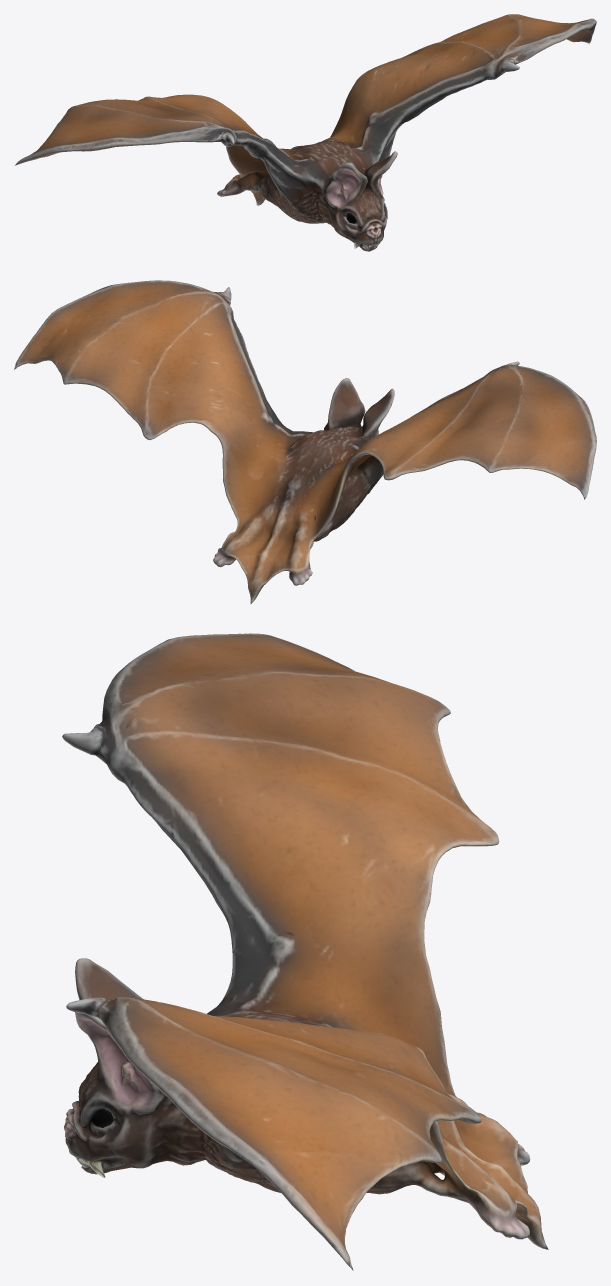
The model's file is Bat.glb.
3 views of the same model, one above another, from view 1: azimuth 30°, elevation 25°; view 2: azimuth 150°, elevation 25°; view 3: azimuth 270°, elevation 25° (orthographic). The views are drawn at different scales.
Parts seen in each view (by area): view 1: ZbrushBatSimplifiedRemix.002; view 2: ZbrushBatSimplifiedRemix.002; view 3: ZbrushBatSimplifiedRemix.002.
Boxes of the visible parts, bbox=[...] form: ZbrushBatSimplifiedRemix.002: bbox=[15, 14, 596, 251]; ZbrushBatSimplifiedRemix.002: bbox=[14, 280, 596, 603]; ZbrushBatSimplifiedRemix.002: bbox=[62, 633, 548, 1270].
Bounding box in the file's own units: 0.9096 × 0.3028 × 0.3357.
1 material, 1 textured.
